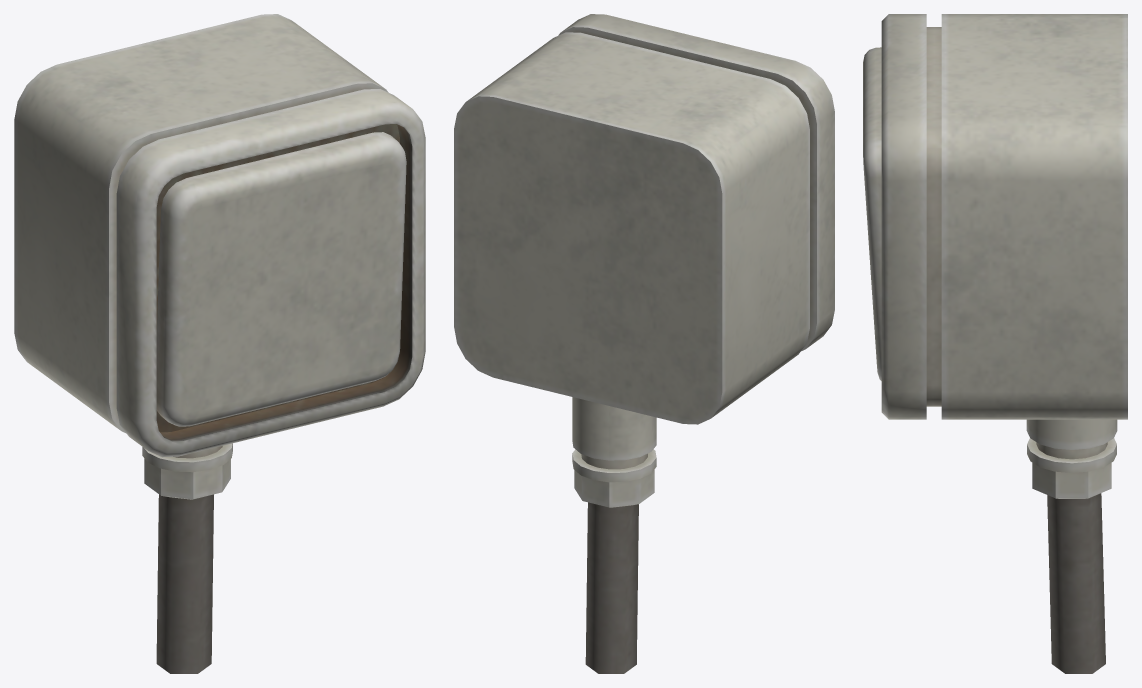
File: cable_cable_lightswitch.fbx
3 views of the same model, side by side, from view 1: azimuth 30°, elevation 25°; view 2: azimuth 150°, elevation 25°; view 3: azimuth 270°, elevation 25° (orthographic). The views are drawn at different scales.
Visible parts, largest first — view 1: modular_electric_cables_boxes__cable_lightswitch; view 2: modular_electric_cables_boxes__cable_lightswitch; view 3: modular_electric_cables_boxes__cable_lightswitch.
Part boxes in pixels (x1=…): modular_electric_cables_boxes__cable_lightswitch: x1=14, y1=14, x2=425, y2=673; modular_electric_cables_boxes__cable_lightswitch: x1=454, y1=14, x2=834, y2=673; modular_electric_cables_boxes__cable_lightswitch: x1=863, y1=14, x2=1127, y2=673.
Size of the model in its own units: 0.068 by 0.1359 by 0.0547.
